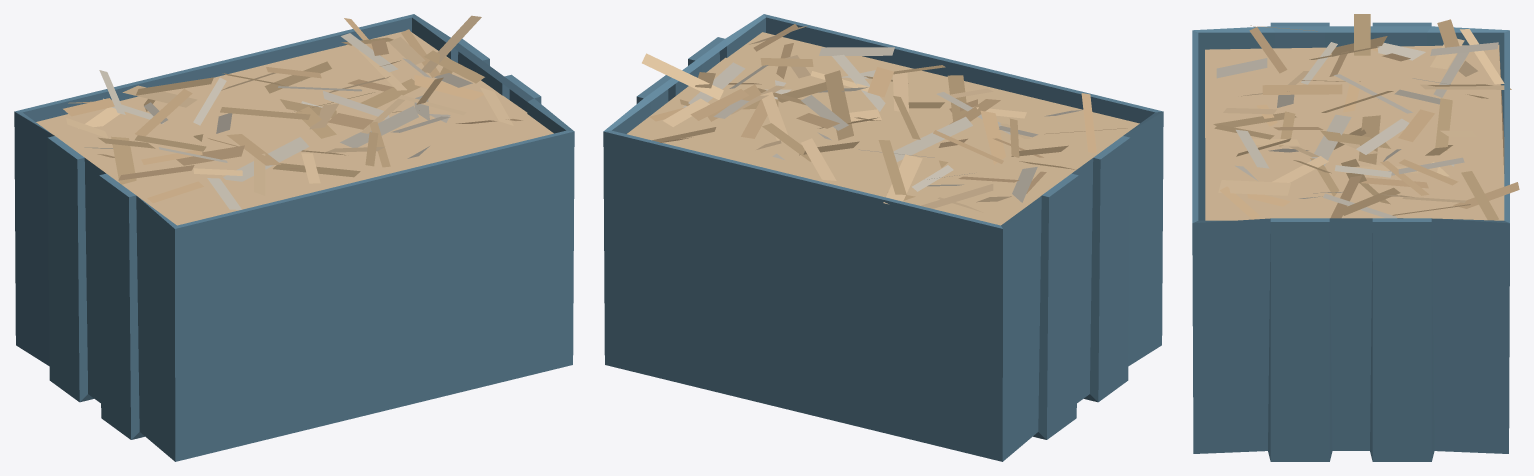
The model's file is CAJA CON TROZITOS DE CARTON(sale de la 2da maquinan de cartón).fbx.
3 views of the same model, side by side, from view 1: azimuth 30°, elevation 25°; view 2: azimuth 150°, elevation 25°; view 3: azimuth 270°, elevation 25° (orthographic).
Visible parts, largest first — view 1: Contenedor_Industrial.002; view 2: Contenedor_Industrial.002; view 3: Contenedor_Industrial.002.
Boxes of the visible parts, x1,y1,x2,y2 form: Contenedor_Industrial.002: (14,14,574,461); Contenedor_Industrial.002: (603,14,1163,461); Contenedor_Industrial.002: (1192,14,1519,461).
Size of the model in its own units: 106 by 66.44 by 72.77.
